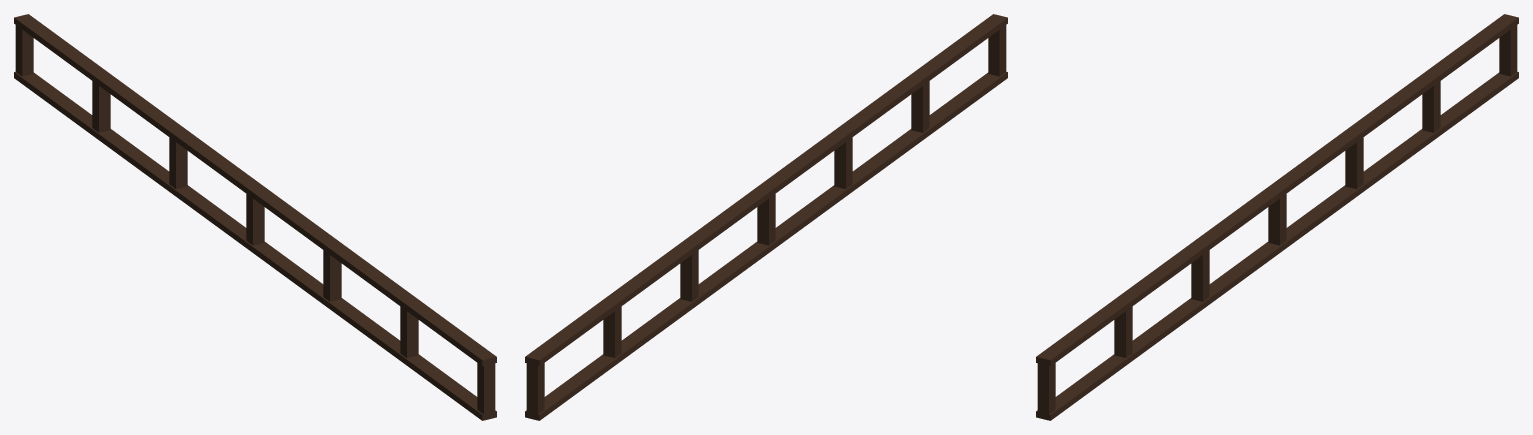
Rendered from env_bridge_rail_east.glb.
3 renders of one model, left to right at view 1: azimuth 30°, elevation 25°; view 2: azimuth 150°, elevation 25°; view 3: azimuth 330°, elevation 25°, orthographic.
Parts seen in each view (by area): view 1: ENV_Bridge_RailEast; view 2: ENV_Bridge_RailEast; view 3: ENV_Bridge_RailEast.
Part boxes in pixels (<box>): ENV_Bridge_RailEast: <box>14,14,496,420</box>; ENV_Bridge_RailEast: <box>525,14,1007,420</box>; ENV_Bridge_RailEast: <box>1036,14,1518,420</box>.
Size of the model in its own units: 0.15 by 0.6 by 8.4.
